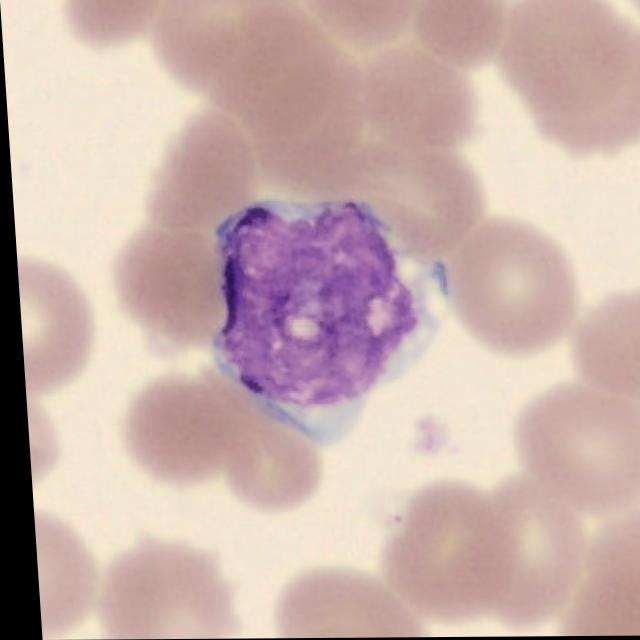Linfocito: (205, 202, 433, 448)
